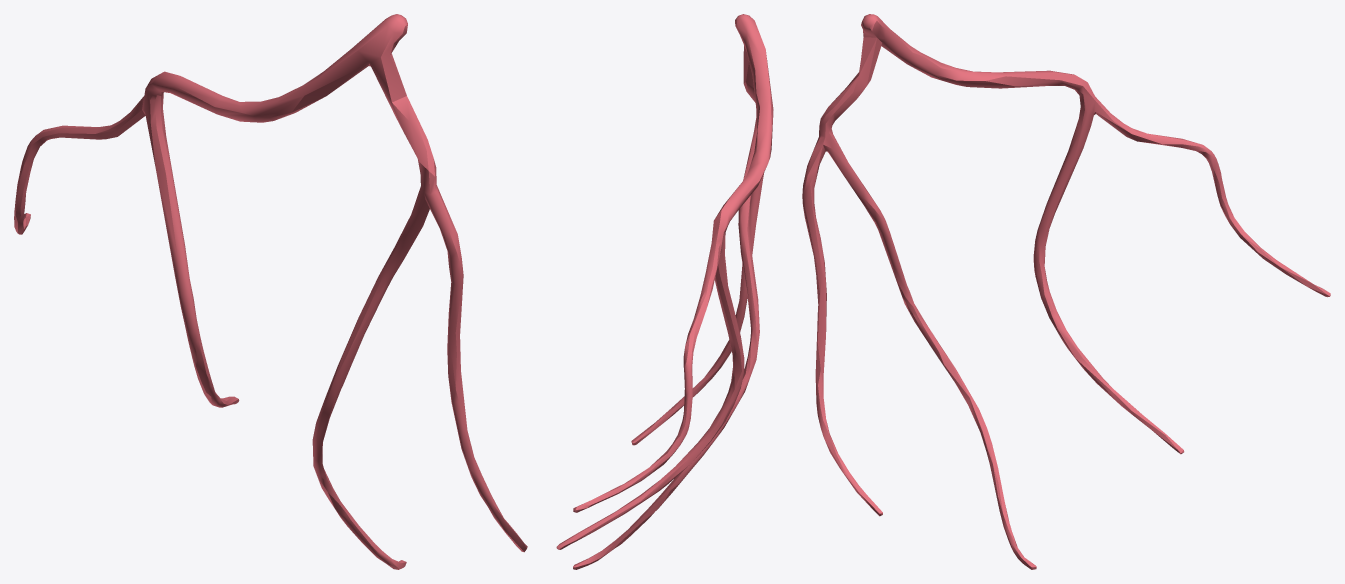
Rendered from fma50383_fj4982.glb.
3 views of the same model, side by side, from view 1: azimuth 30°, elevation 25°; view 2: azimuth 150°, elevation 25°; view 3: azimuth 270°, elevation 25° (orthographic). The views are drawn at different scales.
Visible parts, largest first — view 1: FMA50383_FJ4982; view 2: FMA50383_FJ4982; view 3: FMA50383_FJ4982.
Part boxes in pixels (x1=…): FMA50383_FJ4982: x1=14, y1=14, x2=527, y2=569; FMA50383_FJ4982: x1=556, y1=14, x2=773, y2=569; FMA50383_FJ4982: x1=802, y1=14, x2=1330, y2=569.
Bounding box in the file's own units: 0.0207 × 0.044 × 0.0411.
